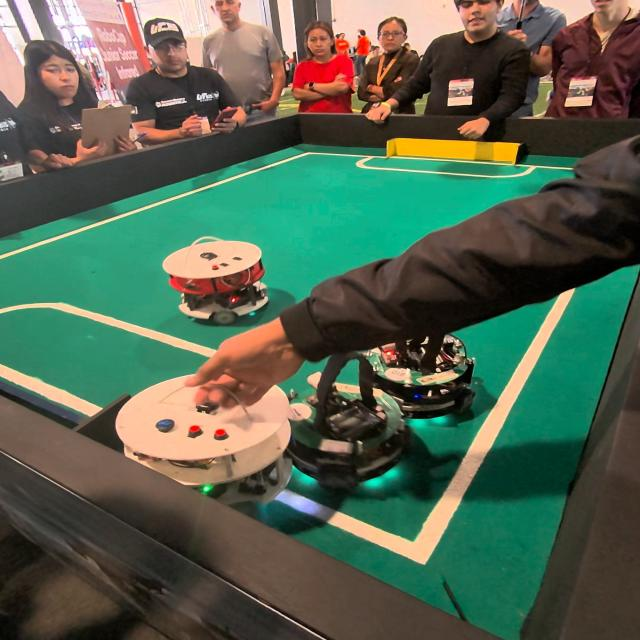Robot: (115, 361, 293, 507), (291, 358, 408, 506), (373, 330, 496, 426), (163, 228, 271, 334)
